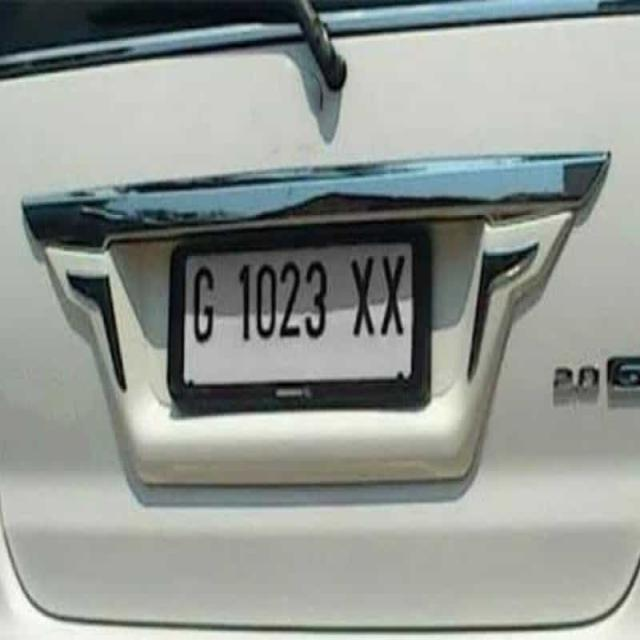license-plat: (156, 211, 454, 435)
